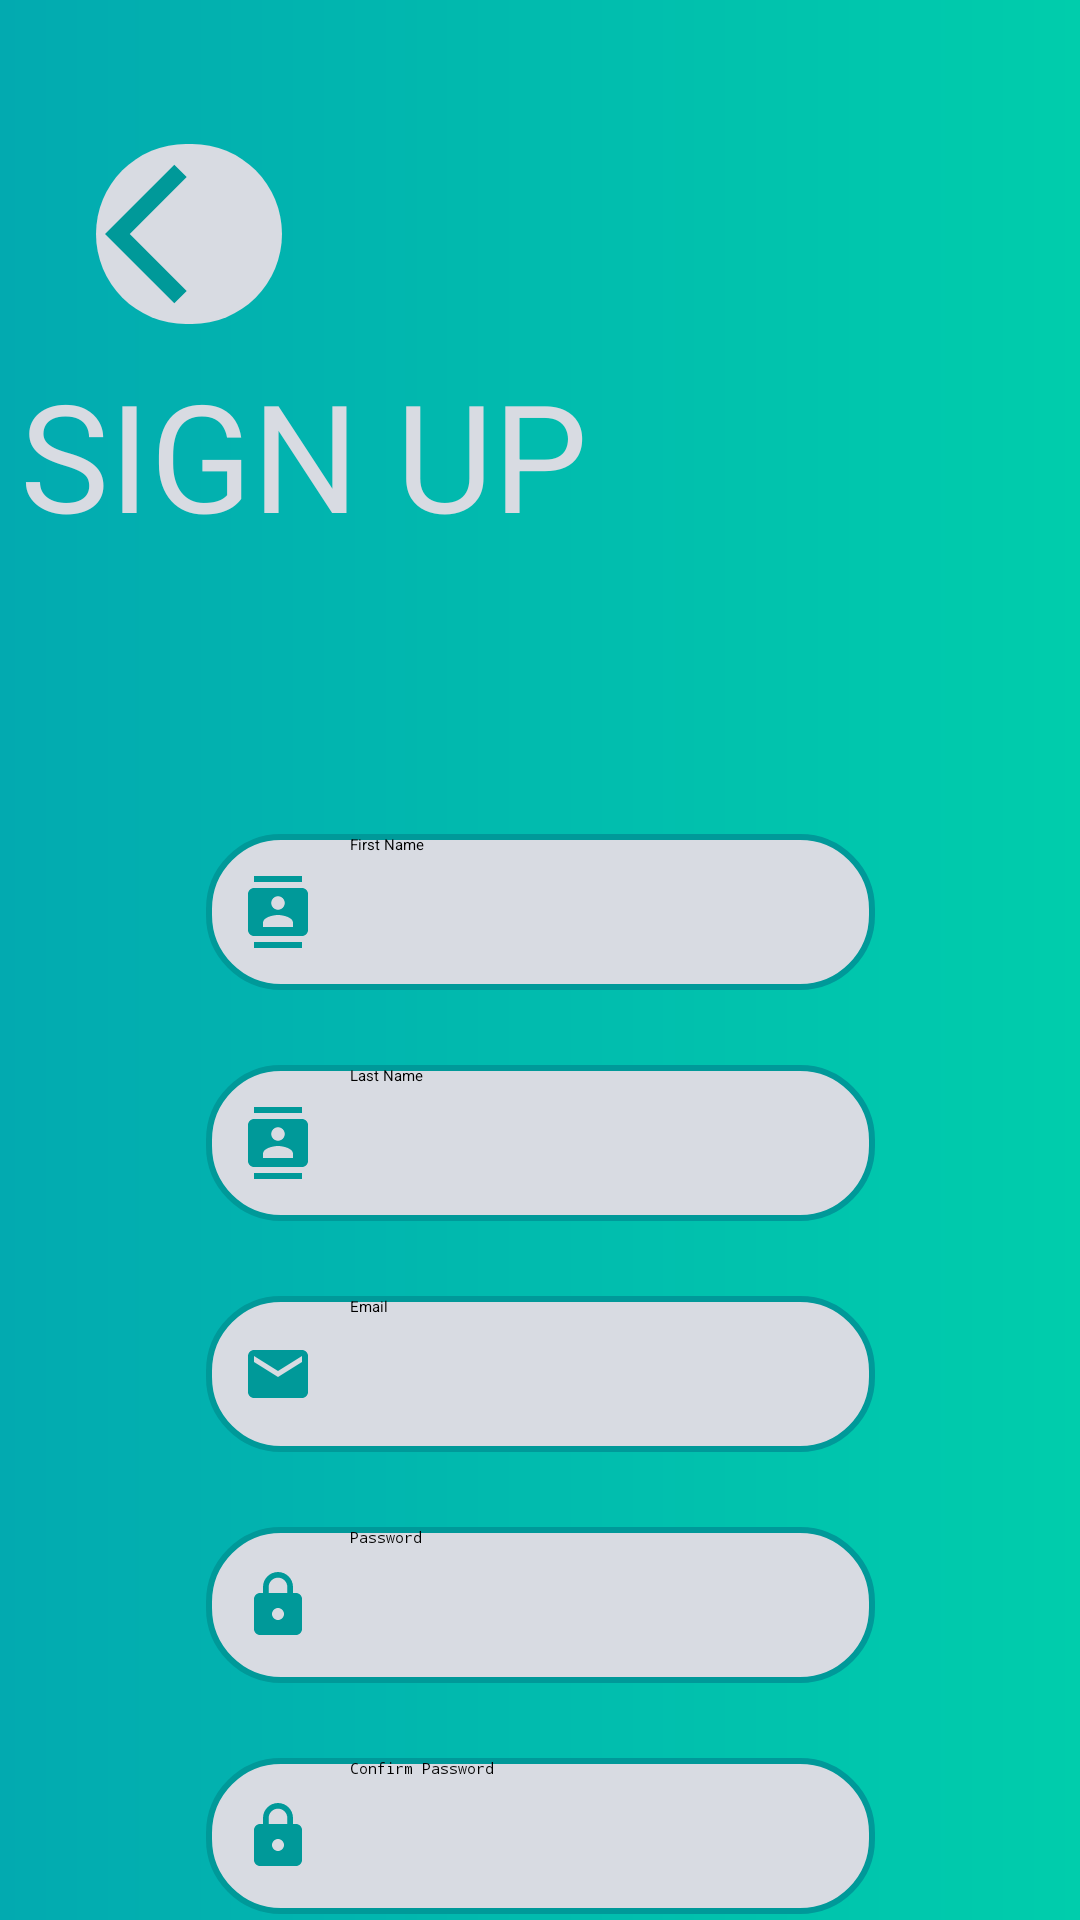

Named icons in this screenshot (1080*1920) and their bounding boxes, {"x1": x1, "y1": y1, "x2": x2, "y2": y2}:
Back: {"x1": 96, "y1": 144, "x2": 282, "y2": 324}
